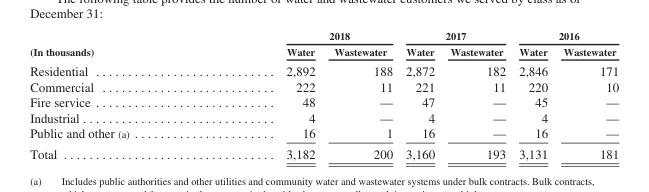table: (29, 29, 618, 160)
table column: (29, 29, 207, 160), (207, 29, 324, 160), (324, 29, 398, 160), (441, 29, 511, 160), (555, 29, 618, 160), (511, 29, 555, 160), (398, 29, 441, 160)
table column header: (29, 29, 618, 60)
table row: (29, 60, 618, 78), (29, 125, 618, 143), (29, 43, 618, 60), (29, 143, 618, 160), (29, 78, 618, 94), (29, 109, 618, 125), (29, 94, 618, 109), (29, 29, 618, 43)
table spanning cell: (29, 29, 207, 60), (207, 29, 398, 43), (398, 29, 511, 43), (511, 29, 618, 43)
